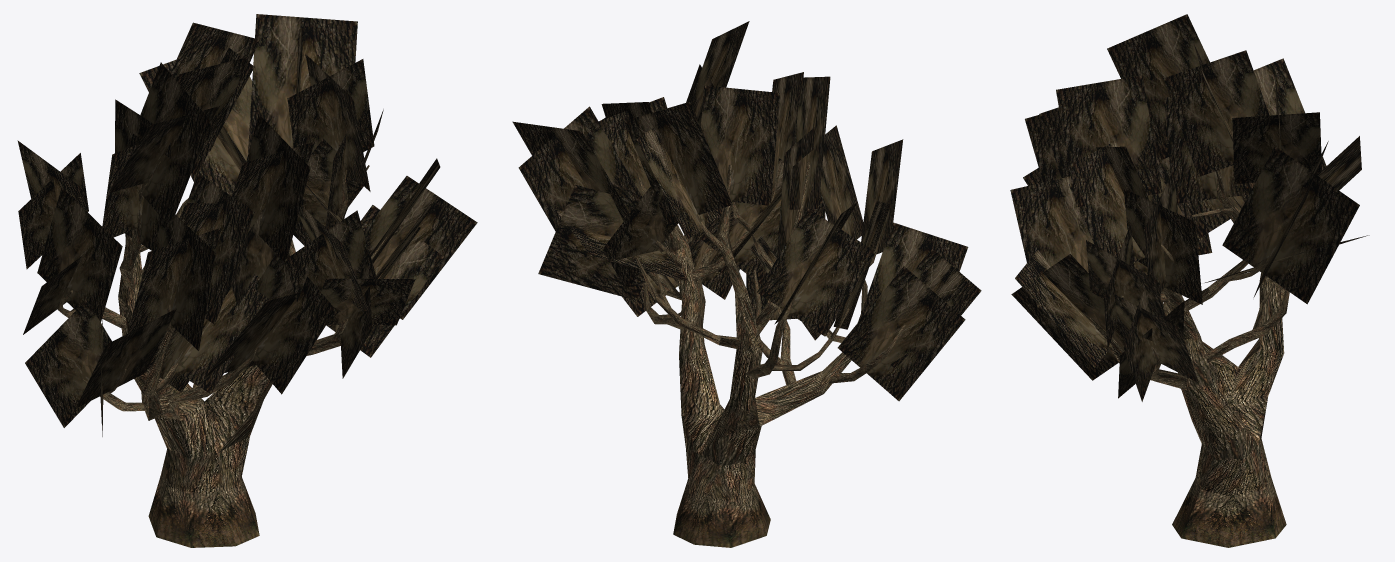
The model's file is hr_tree06.glb.
The picture shows the model from 3 angles, left to right: view 1: azimuth 30°, elevation 25°; view 2: azimuth 150°, elevation 25°; view 3: azimuth 270°, elevation 25°; orthographic projection. The views are drawn at different scales.
Parts seen in each view (by area): view 1: hr_tree06-col; view 2: hr_tree06-col; view 3: hr_tree06-col.
Part boxes in pixels (x1,y1,x2,y2): hr_tree06-col: [17, 14, 477, 547]; hr_tree06-col: [512, 21, 981, 547]; hr_tree06-col: [1010, 14, 1369, 547].
Bounding box in the file's own units: 18.79 × 20.07 × 14.05.
Materials: 3 (3 with a texture image).
